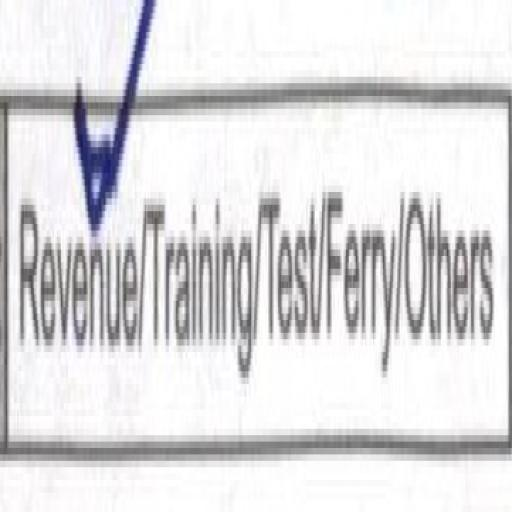check: (10, 16, 141, 435)
